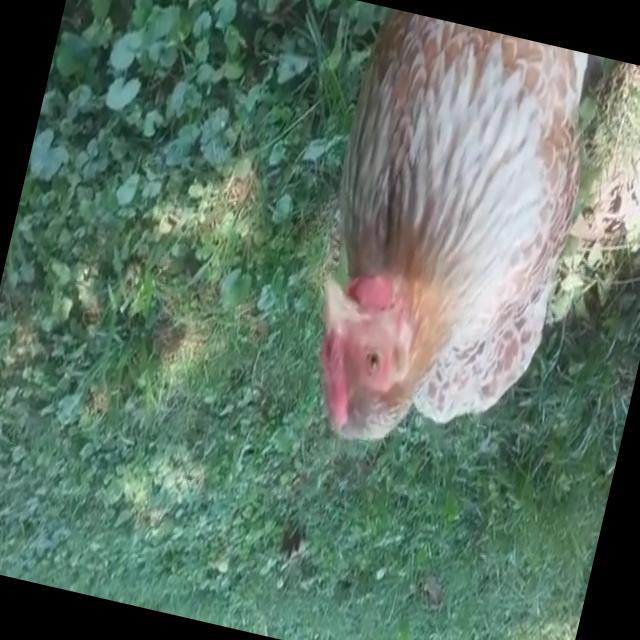Breathing: (279, 6, 611, 482)
